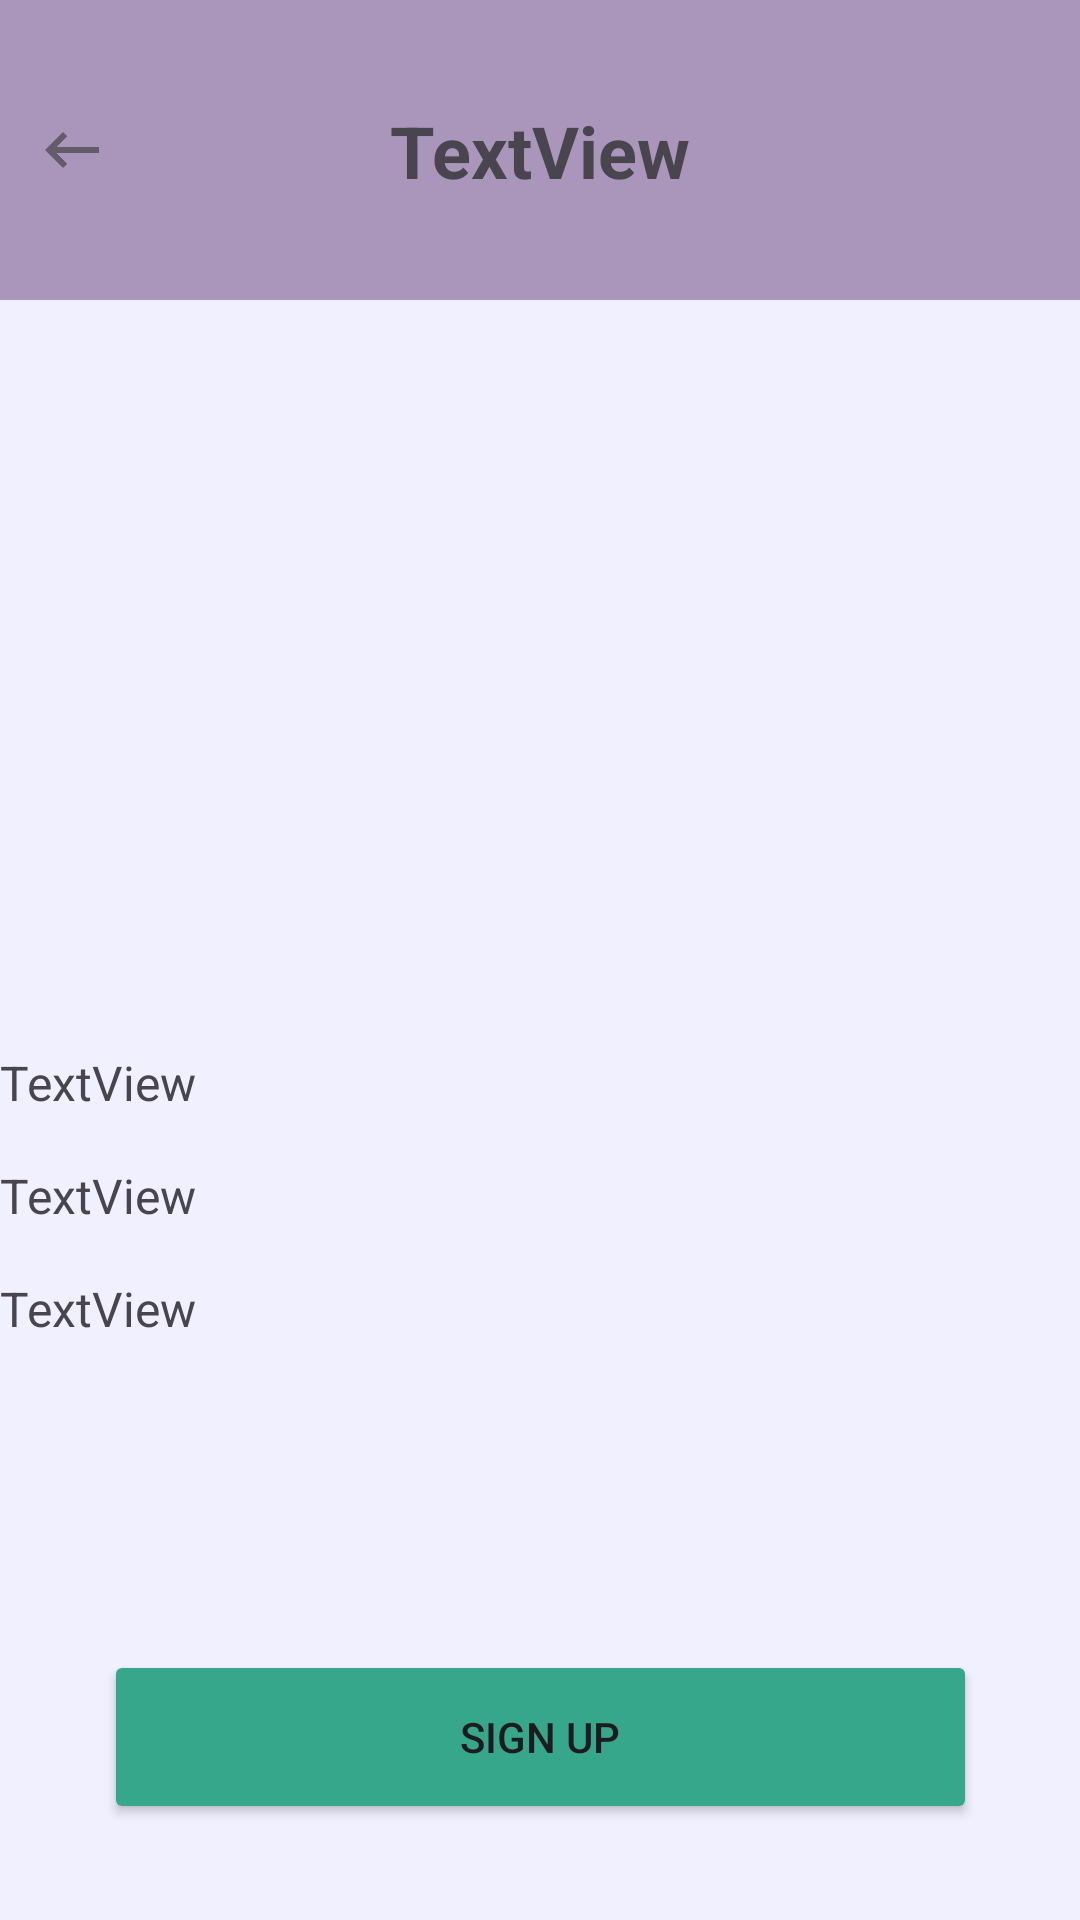

Screen size 1080w x 1920h. Icon name, then its box in pixels as (x1, y1, x2, y2):
back: (45, 132, 99, 168)
